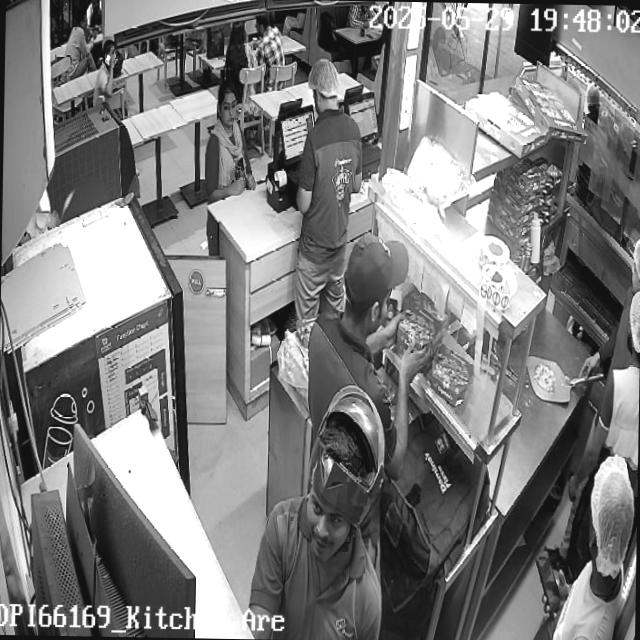helmet: (306, 382, 385, 523)
